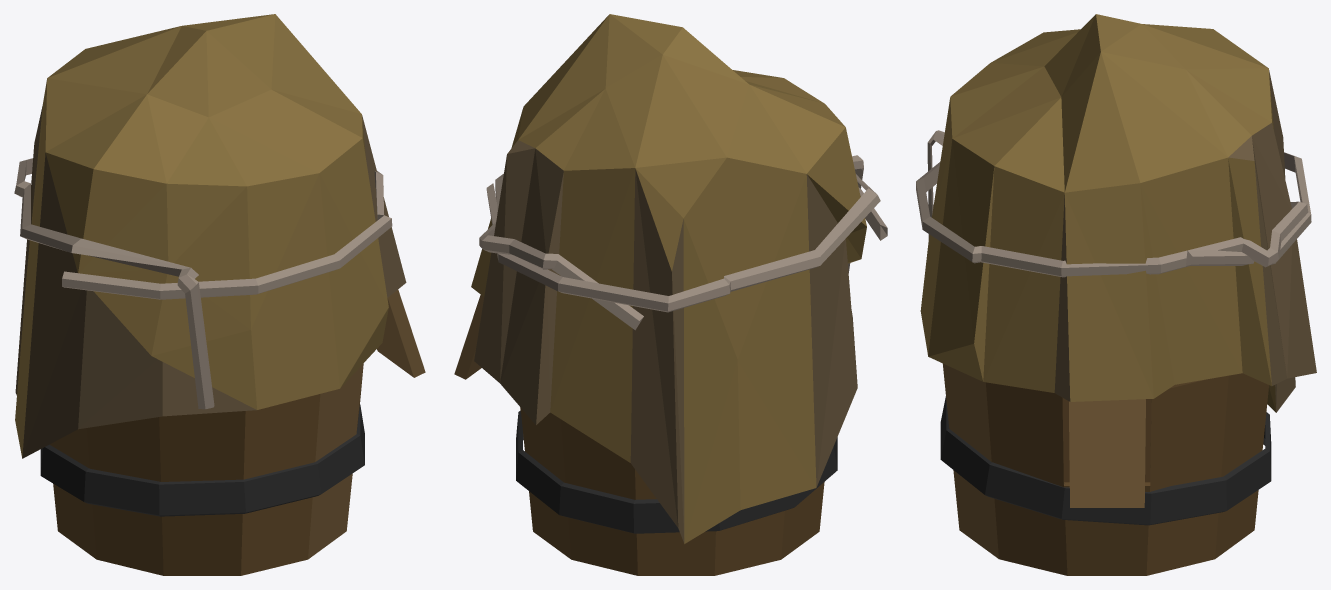
File: EA03_Prop_Container_Barrel_01d.glb
The picture shows the model from 3 angles, left to right: view 1: azimuth 30°, elevation 25°; view 2: azimuth 150°, elevation 25°; view 3: azimuth 270°, elevation 25°; orthographic projection. The views are drawn at different scales.
Parts seen in each view (by area): view 1: EA03_Prop_Container_Barrel_01d; view 2: EA03_Prop_Container_Barrel_01d; view 3: EA03_Prop_Container_Barrel_01d.
Boxes of the visible parts, x1,y1,x2,y2 form: EA03_Prop_Container_Barrel_01d: (14,14,425,575); EA03_Prop_Container_Barrel_01d: (454,14,887,575); EA03_Prop_Container_Barrel_01d: (916,14,1316,575).
Size of the model in its own units: 0.6609 by 0.8072 by 0.5879.
Materials: 1 (1 with a texture image).
